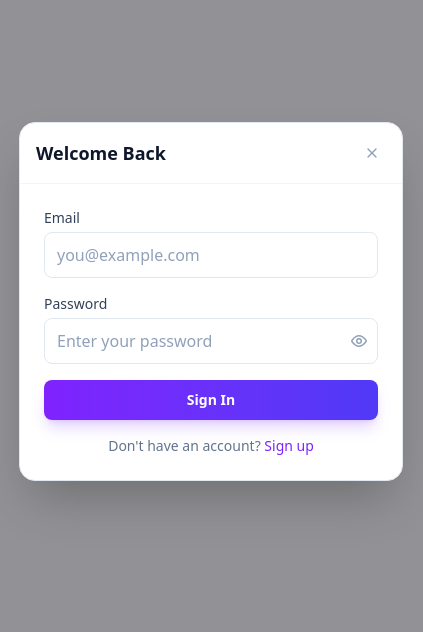
Test: AuthModal › validates register password length
Click the button "Sign up": (289, 446) [264, 436, 314, 456]
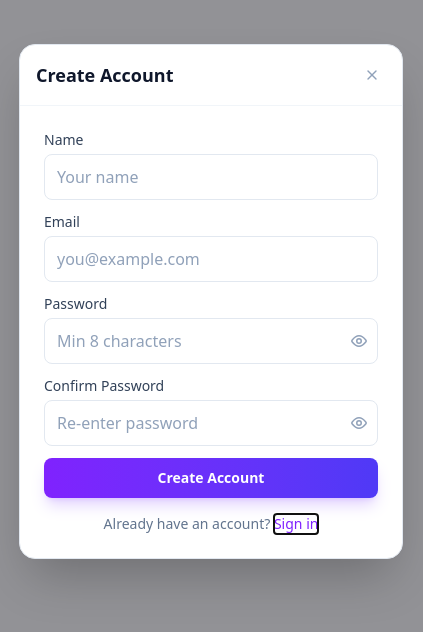
In the field with placeholder "Your name": (211, 176) [44, 154, 378, 200], type "Test"
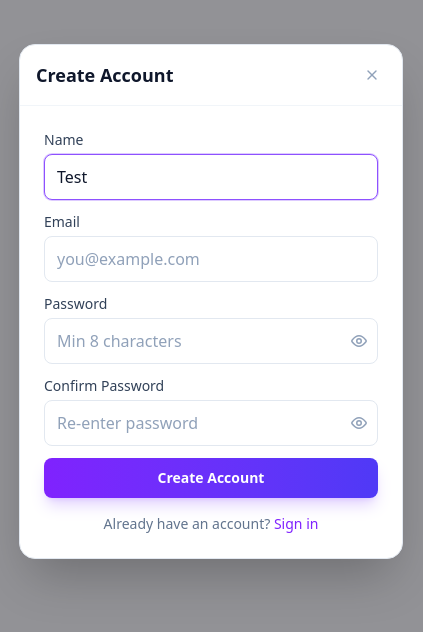
In the field with placeholder "you@example.com": (211, 258) [44, 236, 378, 282], type "test@test.com"
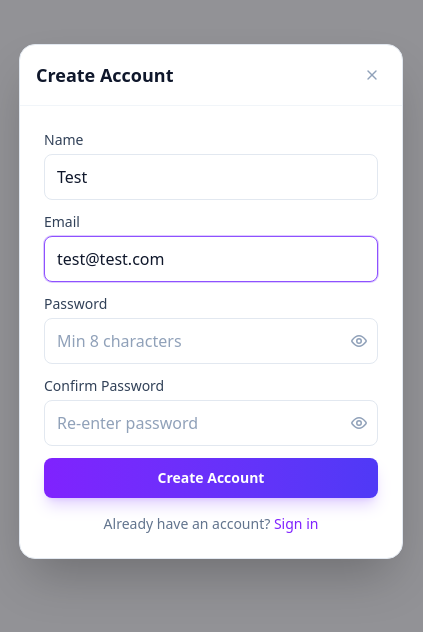
In the password field with placeholder "Min 8 characters": (211, 340) [44, 318, 378, 364], type "short"
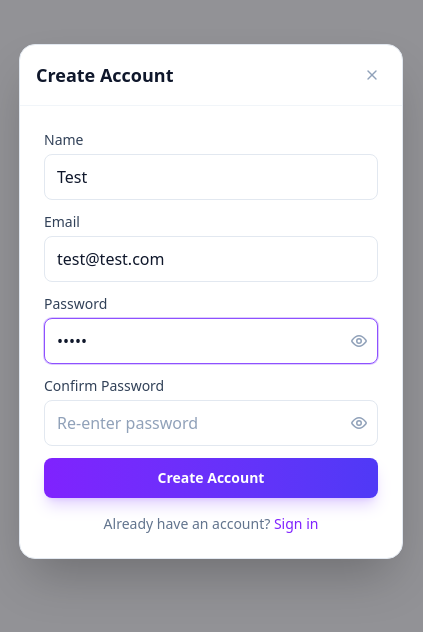
In the password field with placeholder "Re-enter password": (211, 422) [44, 400, 378, 446], type "short"
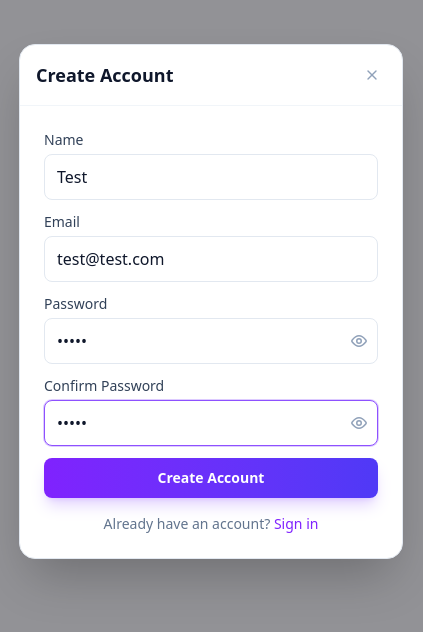
Submit the form, box [44, 130, 378, 498]
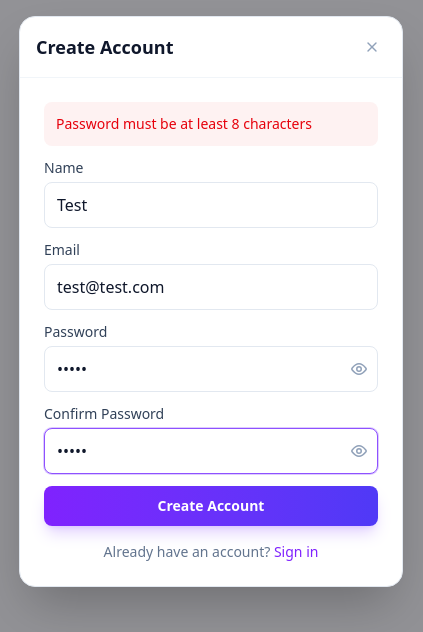
Expected: the text "Password must be at least 8 characters" is shown, [44, 102, 378, 146]
